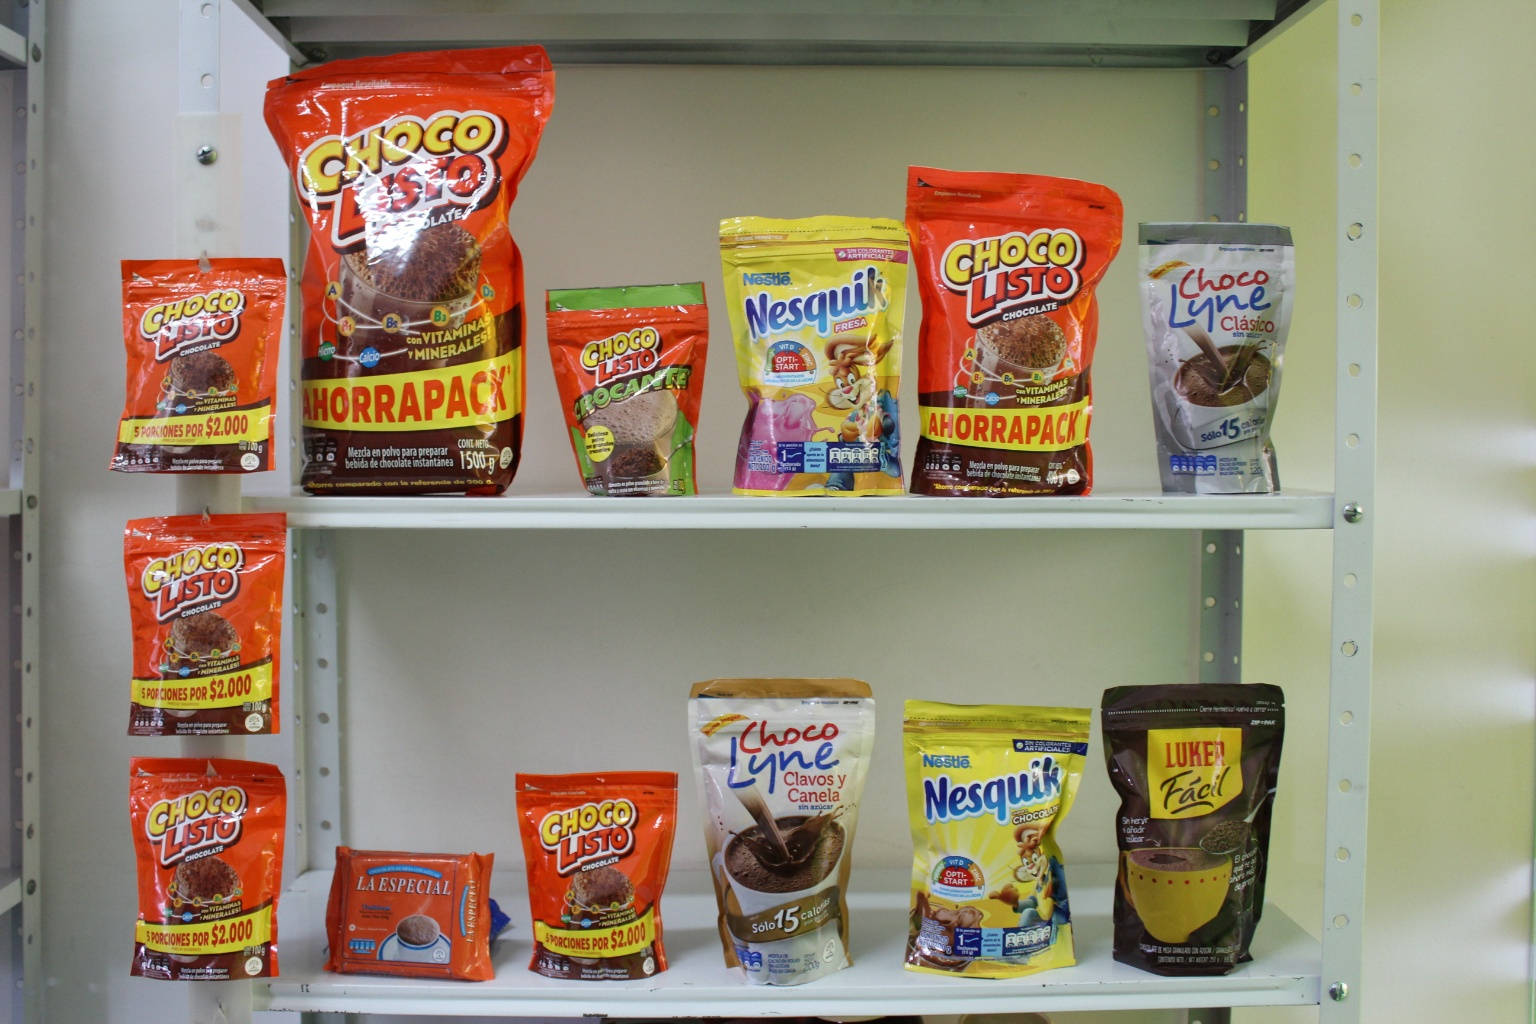COL0170102DYP10000: (539, 271, 709, 502)
COL0170103DYP1,500: (259, 35, 560, 494)
COL0170103DYP10000: (117, 248, 288, 486)
COL0170103DYP40000: (899, 162, 1125, 507)
COL0170303DYP20000: (901, 694, 1096, 991)
COL0170305DYP20000: (713, 213, 912, 505)
